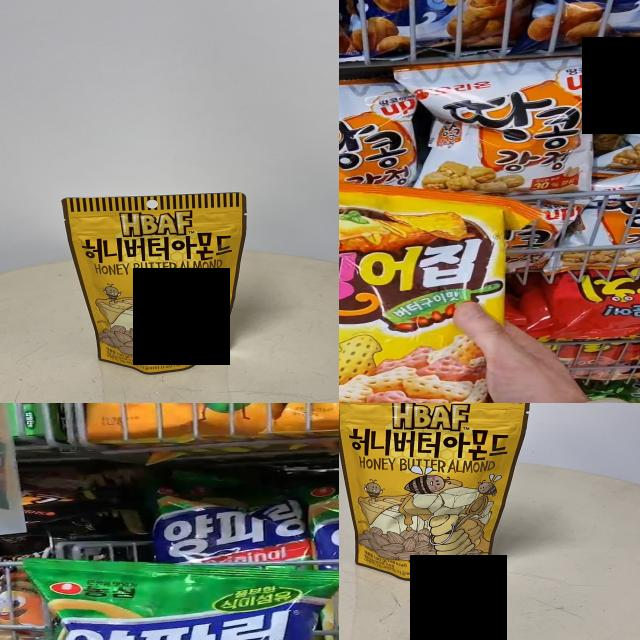honeyAmond: (64, 192, 250, 373), (339, 403, 511, 572)
onionRing: (26, 564, 292, 640), (159, 495, 309, 573)
ozingZip: (339, 167, 548, 403)
